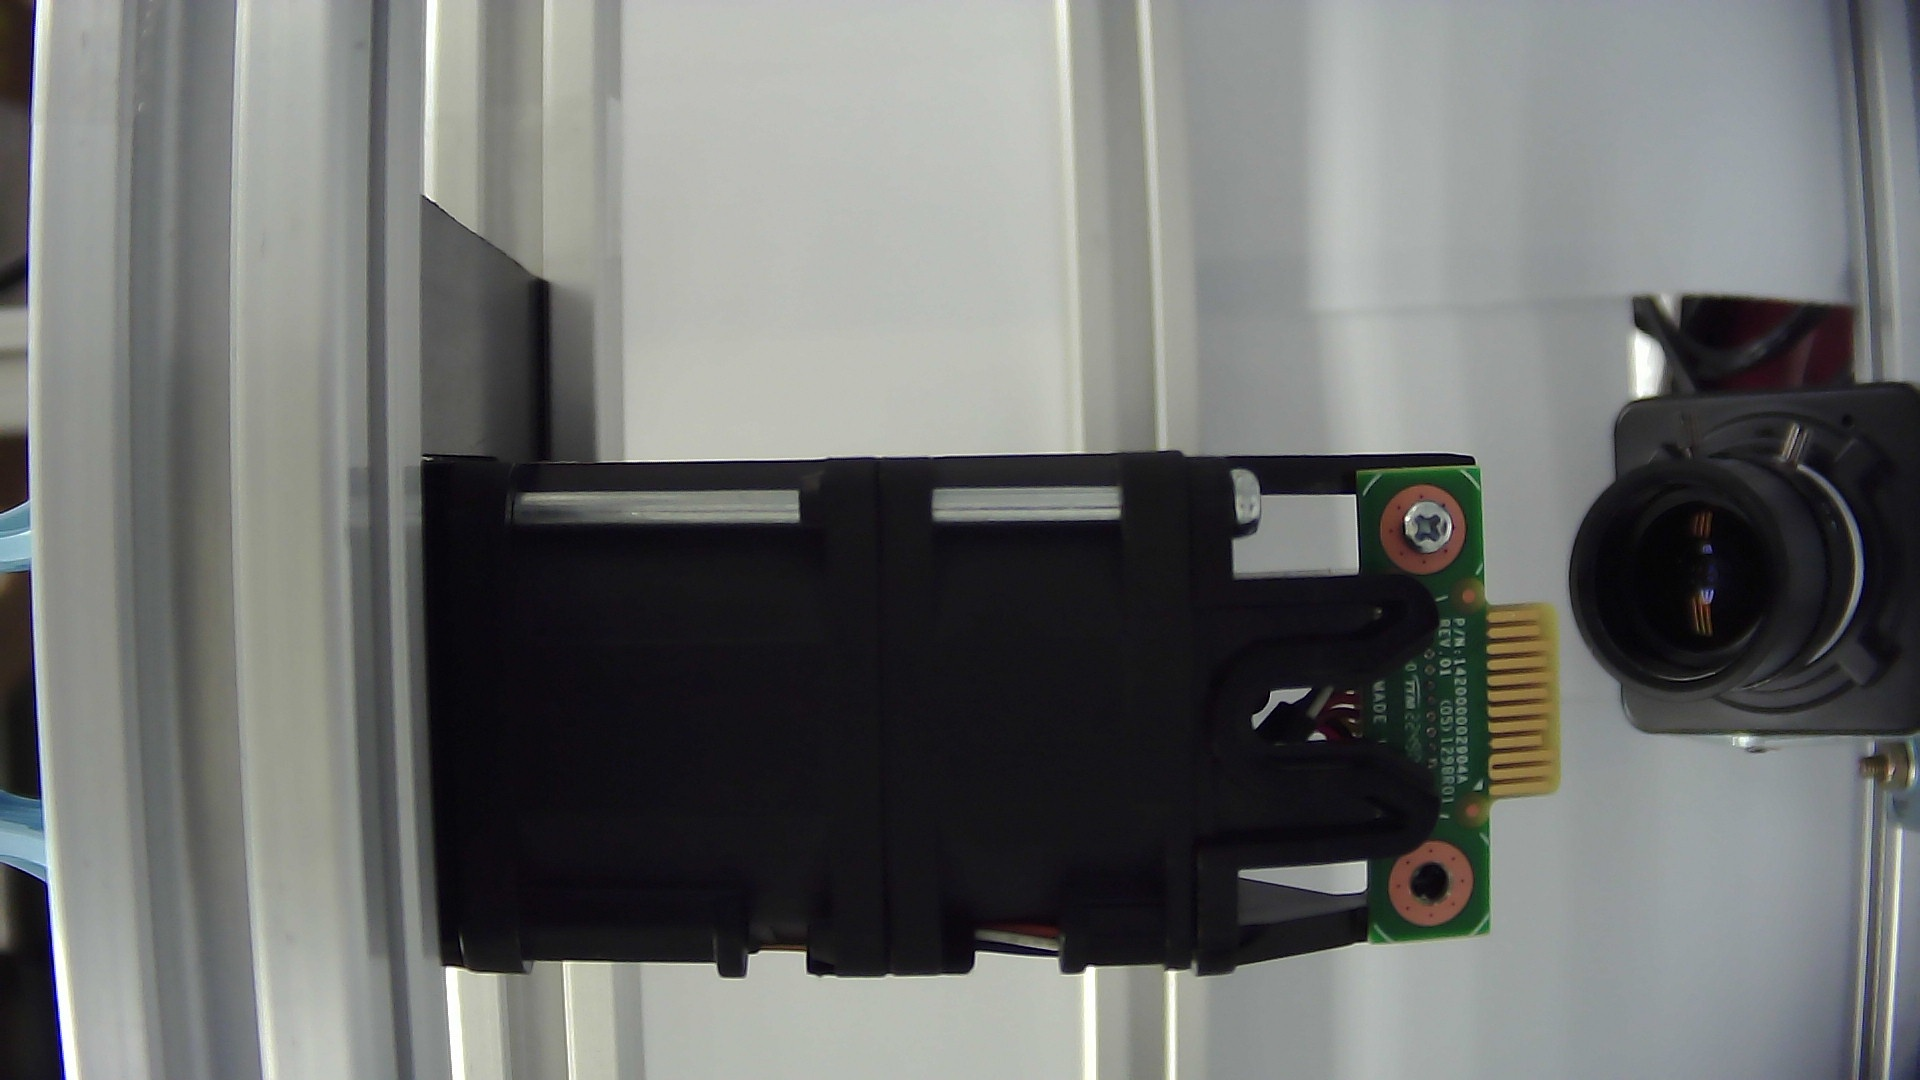5_2: (1369, 822, 1487, 938)
